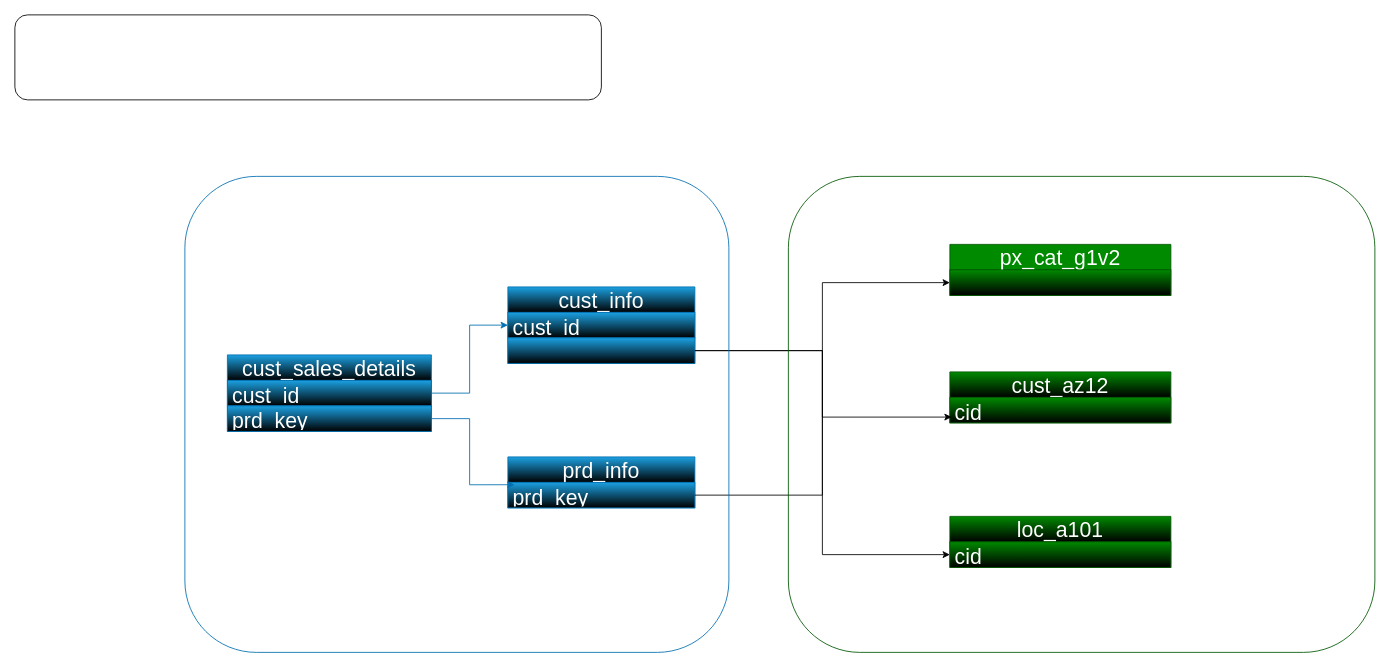
Image size: 1390x667. Some labels were removed from this diagram. Here are the shapes that lost their labels. From the top down, the centre of each, then its label:
point 307,57: INTEGRATION DIAGRAM
point 1060,282: id
point 601,350: cust_key
